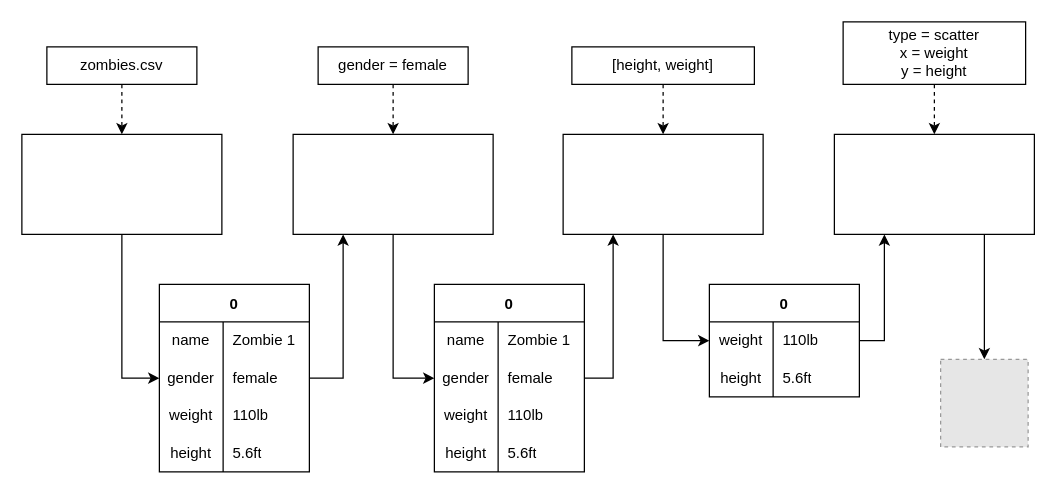
Image size: 1056x494. Some labels were removed from this diagram. Grey dashed boxes stand in for pictures. The centre of each missing label's shape, as x and y in pixels:
Filtro Filtra os dados de entrada por um parâmetro: point 392,183
Input de Dados Insere os dados na pipeline: point 121,183
Projeção Projeta os dados em um formato específico: point 662,183
Renderização Converte os dados para uma representação gráfica: point 933,183
